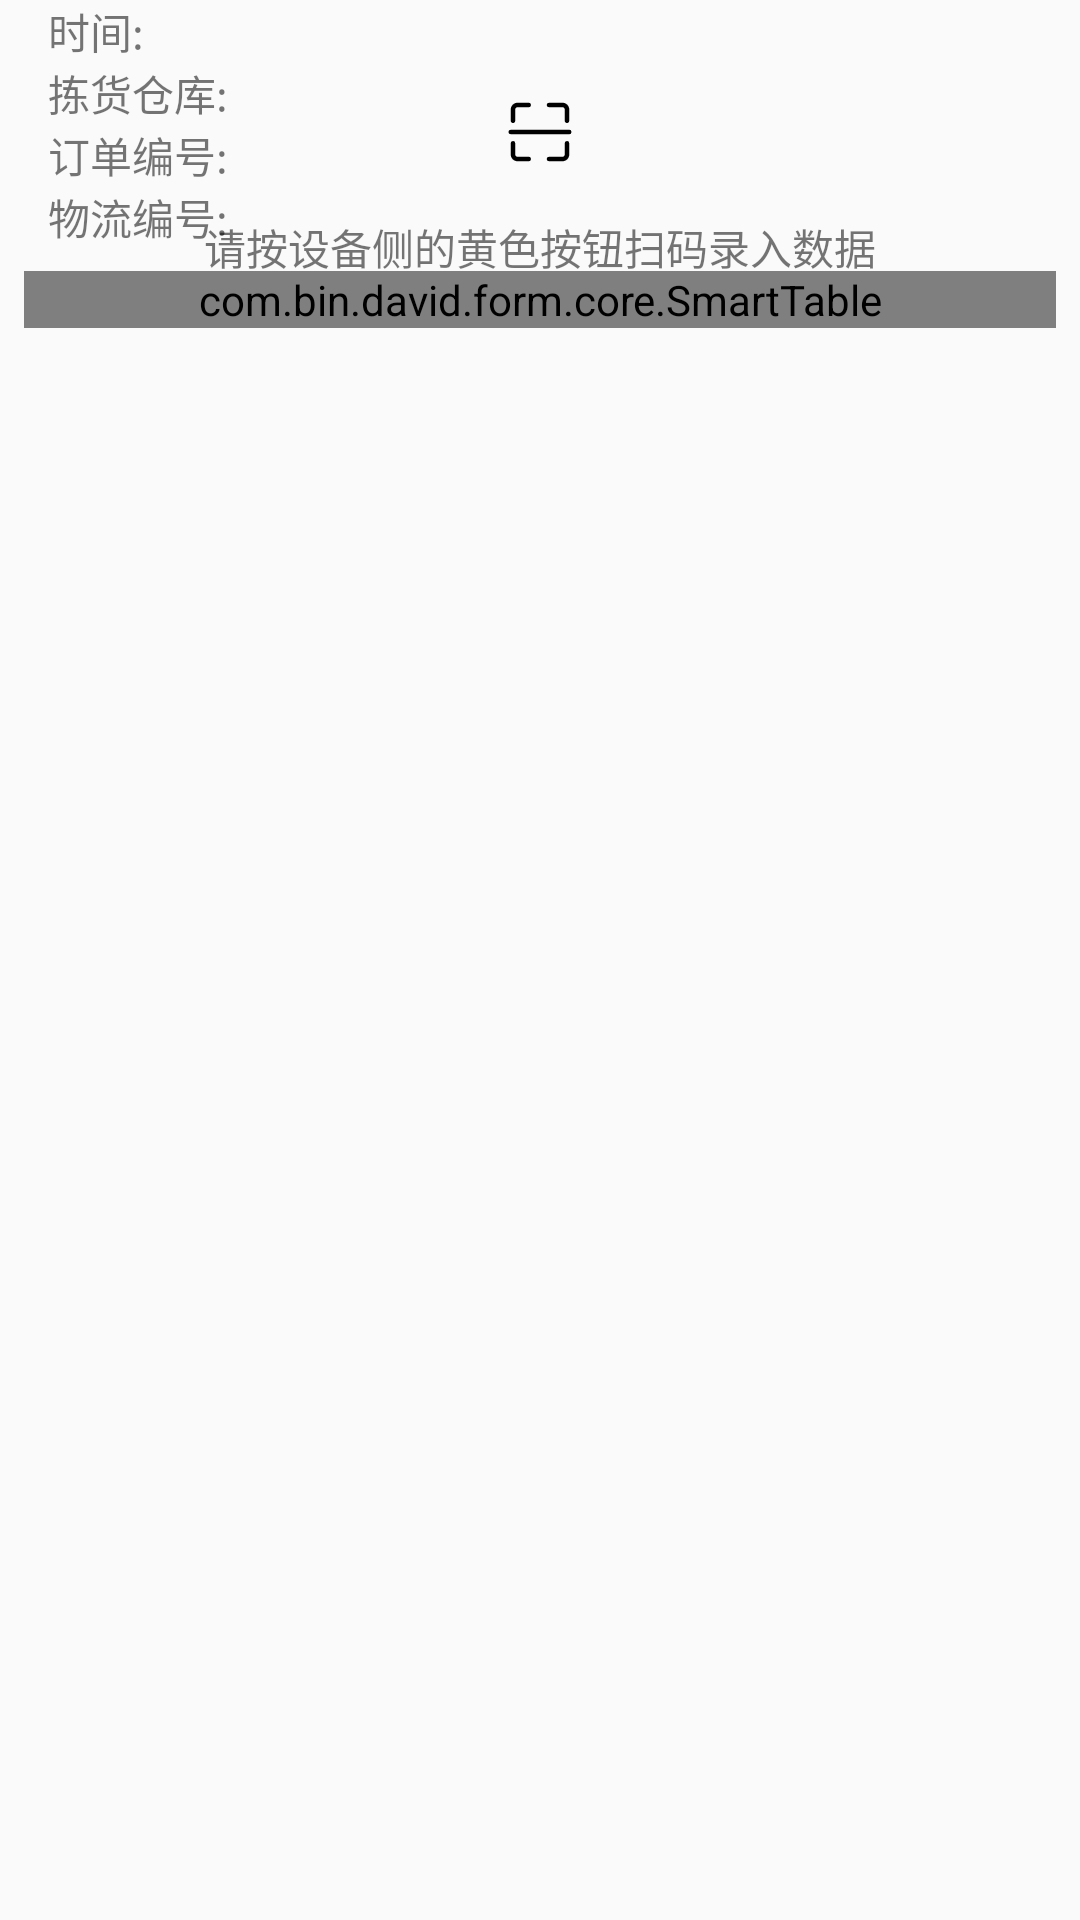

Icons on this 1080x1920 Android screen, each with its box as (x1, y1, x2, y2):
scan: (508, 102, 572, 162)
